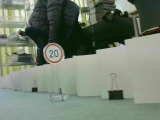speed_20: (42, 41, 64, 64)
